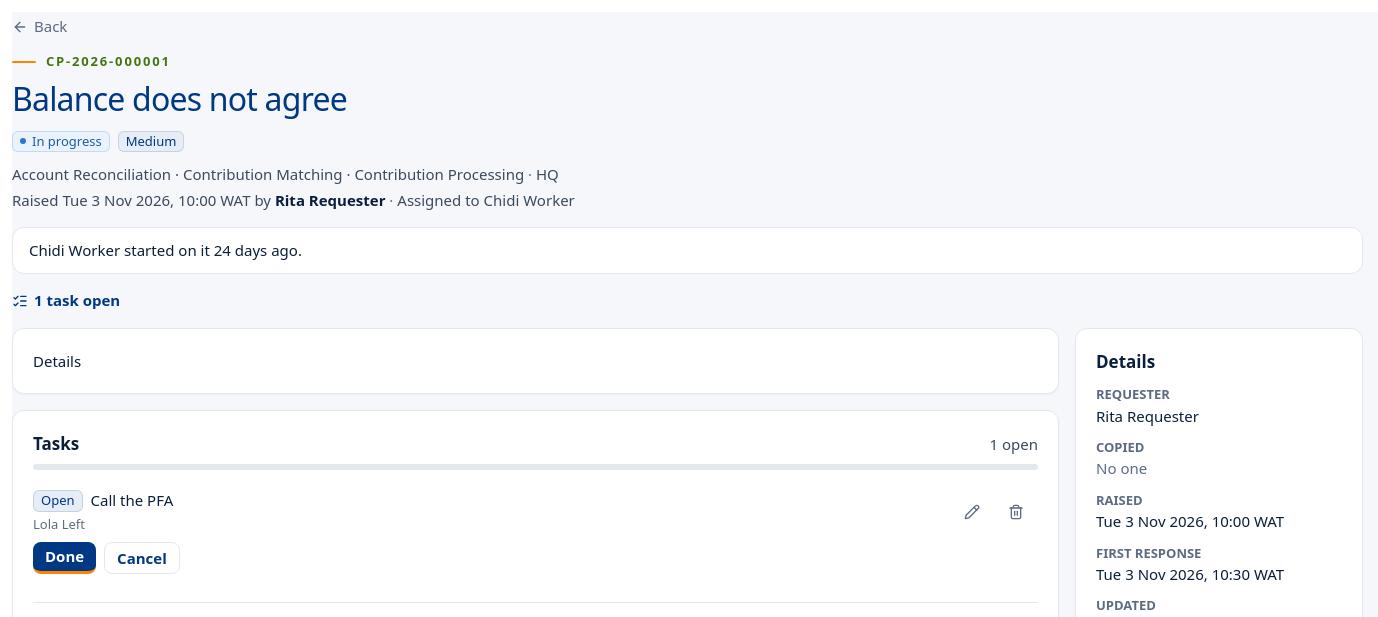
Scenario: Tasks panel › lists the department's people as owners, and keeps a current owner who is not among them
Click the button named "Edit task: Call the PFA" at {"x": 972, "y": 512}, box [950, 490, 994, 534]
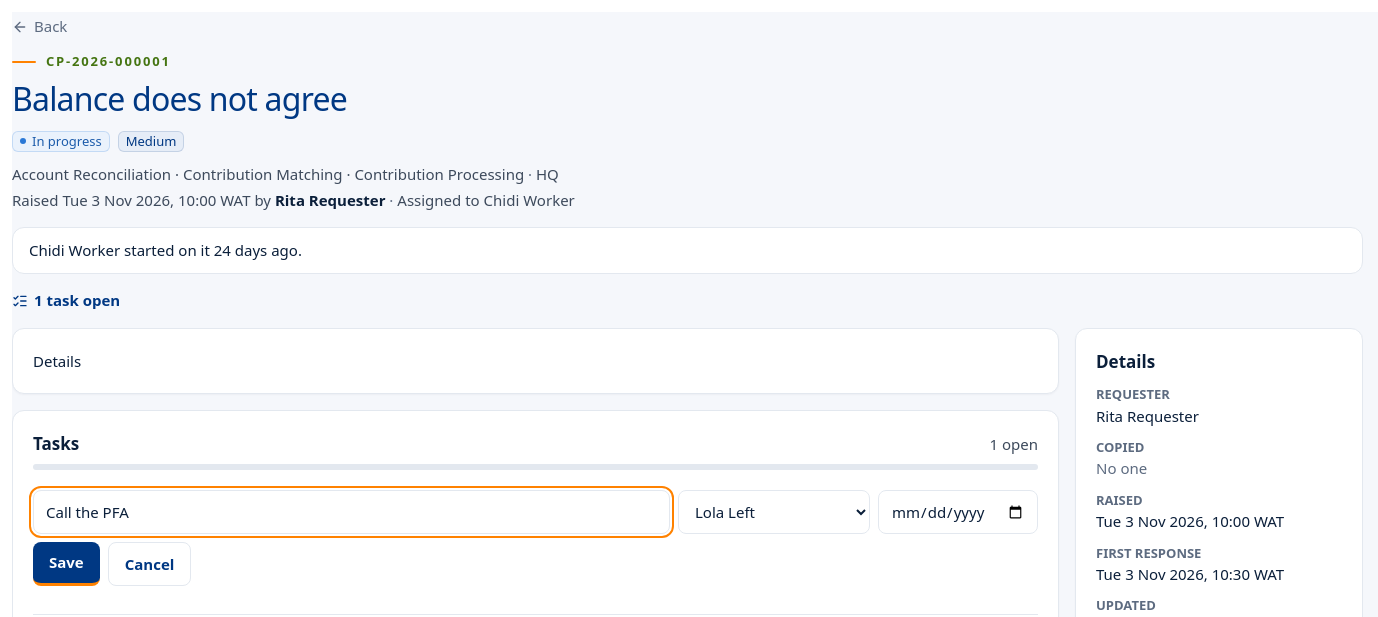
Now the dropdown named "Owner (optional)" shows "Lola Left", box [678, 490, 870, 534]
